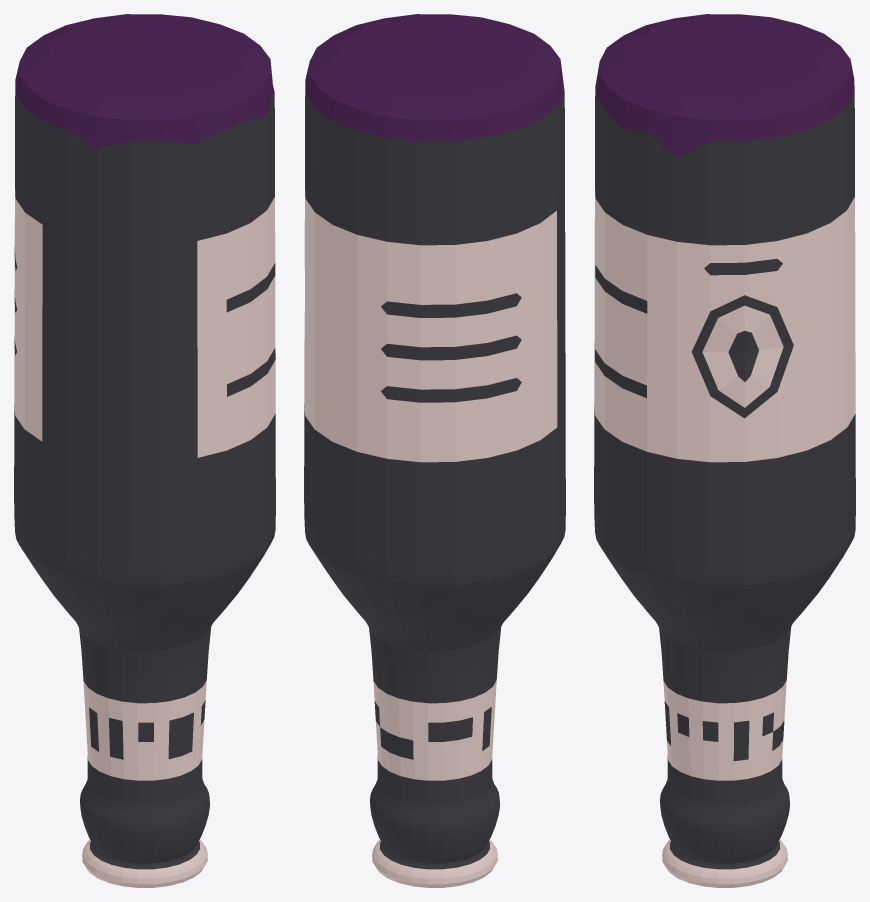
Rendered from cola.glb.
3 renders of one model, left to right at view 1: azimuth 30°, elevation 25°; view 2: azimuth 150°, elevation 25°; view 3: azimuth 270°, elevation 25°, orthographic.
Visible parts, largest first — view 1: Cylinder.003; view 2: Cylinder.003; view 3: Cylinder.003.
Boxes of the visible parts, bbox=[...] form: Cylinder.003: bbox=[14, 14, 275, 887]; Cylinder.003: bbox=[304, 14, 565, 887]; Cylinder.003: bbox=[594, 14, 855, 887].
Bounding box in the file's own units: 1.94 × 6.56 × 1.91.
Materials: 1 (1 with a texture image).
